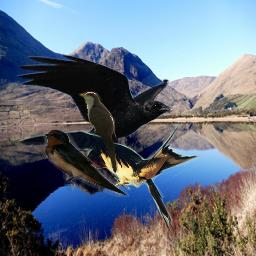Crow: (16, 53, 175, 159)
Cuckoo: (78, 91, 119, 174)
Swallow: (15, 121, 231, 234), (42, 128, 129, 197)
